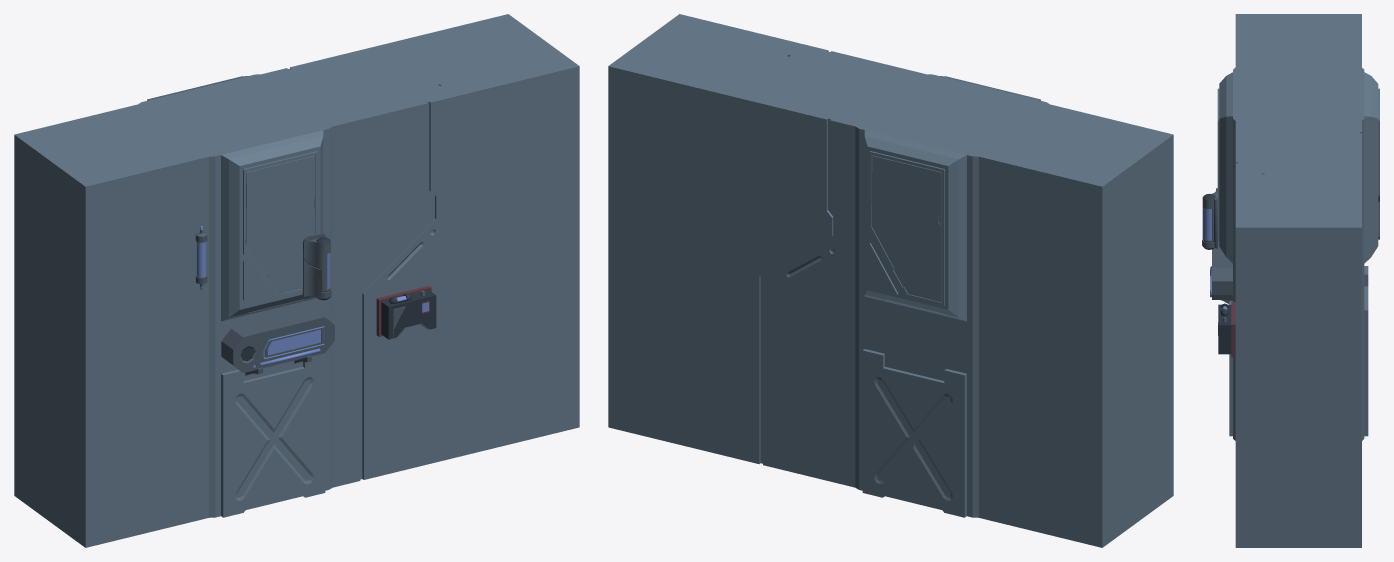
File: Uni.fbx
3 views of the same model, side by side, from view 1: azimuth 30°, elevation 25°; view 2: azimuth 150°, elevation 25°; view 3: azimuth 270°, elevation 25° (orthographic). The views are drawn at different scales.
Visible parts, largest first — view 1: Wall.001, Wall, AWall, BWall, BBox, ABox, ACylinder; view 2: Wall.001, BWall, AWall, Wall; view 3: Wall, BWall, Wall.001, AWall, BBox, ABox, ACylinder.
Part boxes in pixels (left/top/right/bottom): Wall.001: left=14, top=104, right=208, bottom=547; Wall: left=385, top=14, right=579, bottom=457; AWall: left=262, top=44, right=456, bottom=487; BWall: left=138, top=74, right=332, bottom=517; BBox: left=221, top=308, right=334, bottom=375; ABox: left=376, top=285, right=436, bottom=339; ACylinder: left=302, top=232, right=331, bottom=300; Wall.001: left=979, top=104, right=1173, bottom=547; BWall: left=855, top=74, right=1049, bottom=517; AWall: left=731, top=44, right=925, bottom=487; Wall: left=608, top=14, right=802, bottom=457; Wall: left=1235, top=174, right=1361, bottom=547; BWall: left=1217, top=67, right=1379, bottom=440; Wall.001: left=1235, top=14, right=1361, bottom=67; AWall: left=1235, top=121, right=1361, bottom=174; BBox: left=1210, top=241, right=1232, bottom=303; ABox: left=1218, top=302, right=1235, bottom=357; ACylinder: left=1202, top=188, right=1217, bottom=249.
Size of the model in its own units: 800 by 559 by 281.
